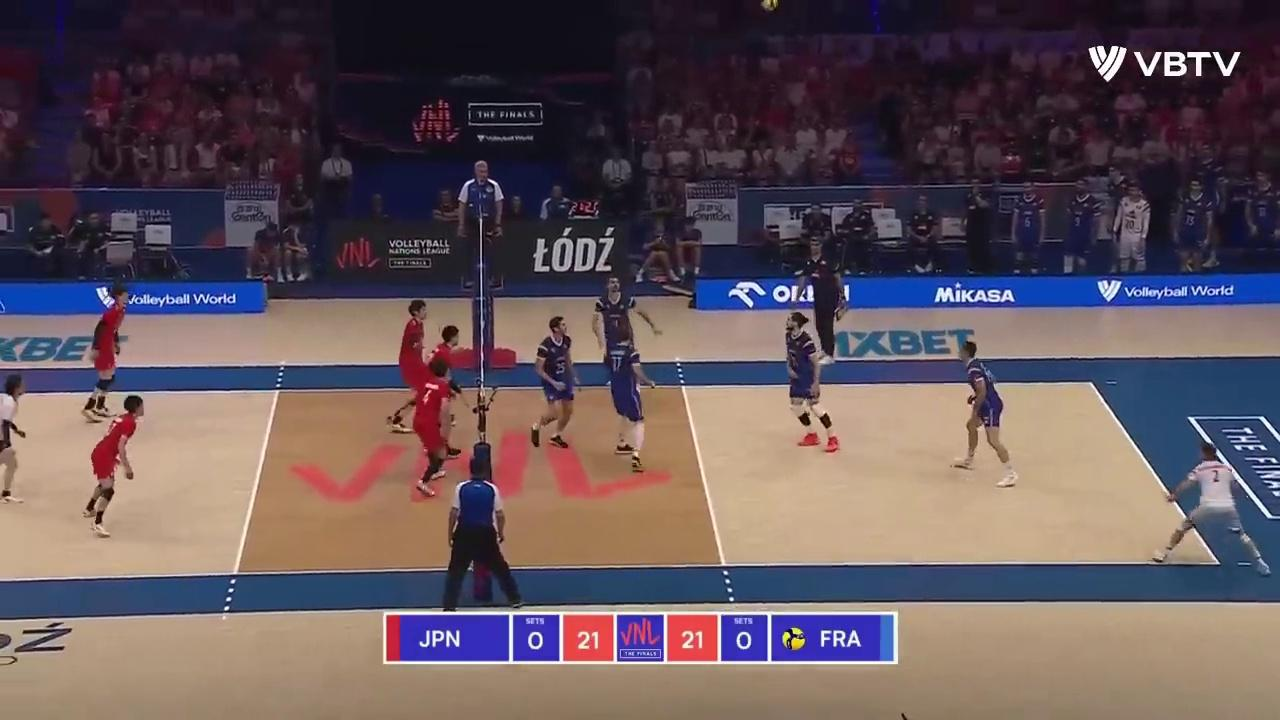ball: (758, 0, 781, 10)
